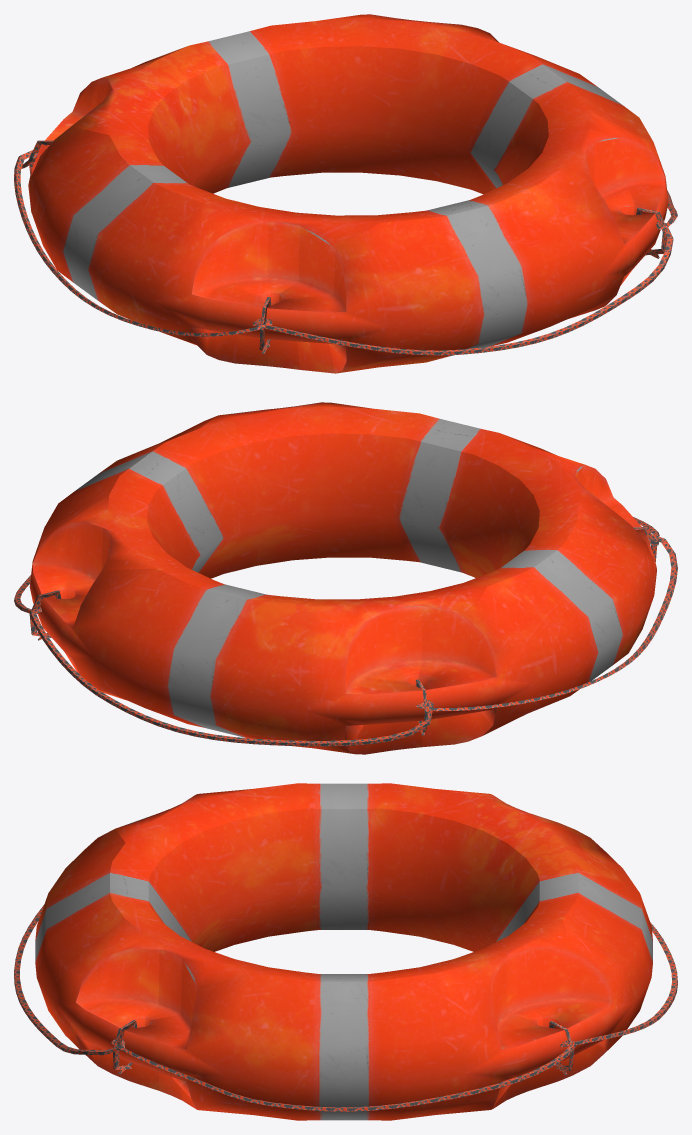
Rendered from lifebuoy ok.fbx.
3 views of the same model, one above another, from view 1: azimuth 30°, elevation 25°; view 2: azimuth 150°, elevation 25°; view 3: azimuth 270°, elevation 25° (orthographic). The views are drawn at different scales.
Parts seen in each view (by area): view 1: lifebuoy_low_poly; view 2: lifebuoy_low_poly; view 3: lifebuoy_low_poly.
Boxes of the visible parts, x1,y1,x2,y2 form: lifebuoy_low_poly: (14, 14, 677, 373); lifebuoy_low_poly: (14, 402, 677, 754); lifebuoy_low_poly: (14, 783, 677, 1120).
Bounding box in the file's own units: 90.42 × 22.98 × 95.26.
Materials: 1 (1 with a texture image).
